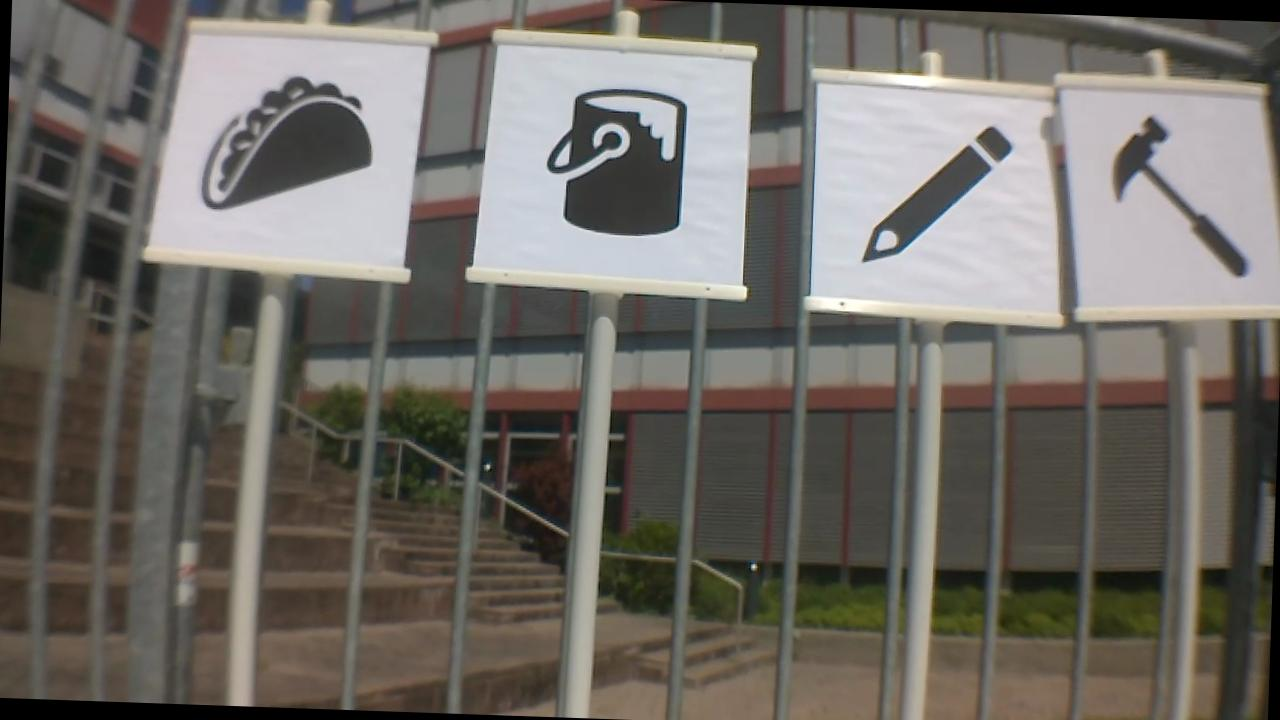bucket: (537, 83, 690, 243)
hammer: (1103, 113, 1268, 279)
pencil: (858, 117, 1017, 268)
taco: (187, 70, 383, 219)
